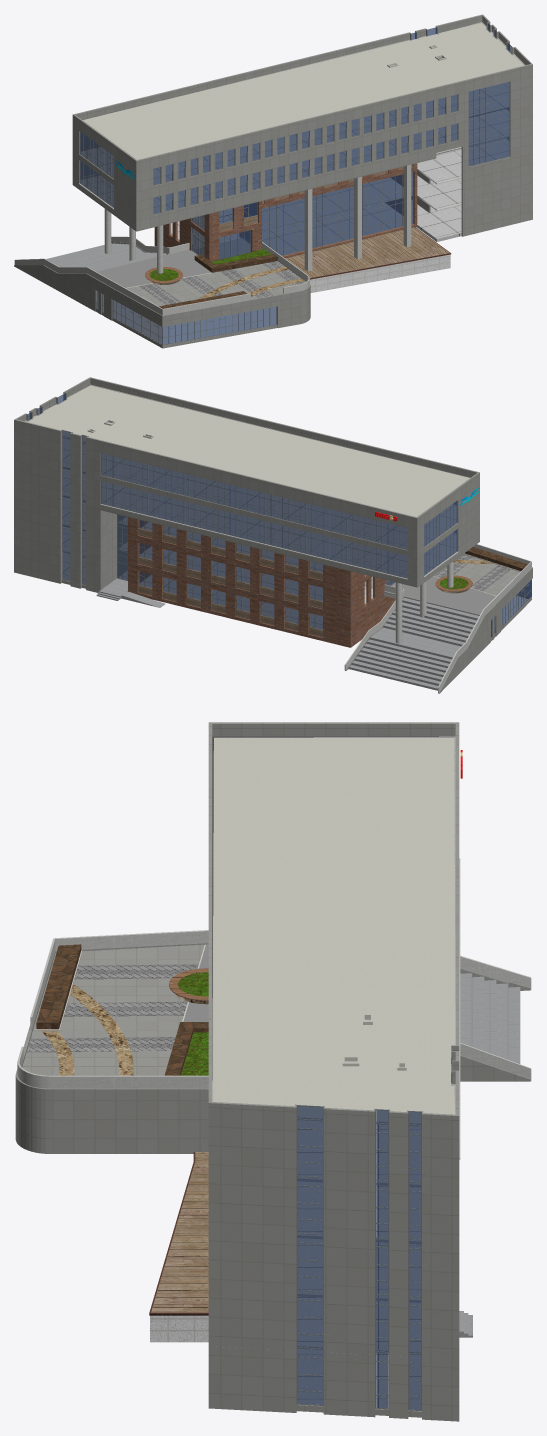
File: zuo.glb
3 views of the same model, one above another, from view 1: azimuth 30°, elevation 25°; view 2: azimuth 150°, elevation 25°; view 3: azimuth 270°, elevation 25° (orthographic). The views are drawn at different scales.
Parts seen in each view (by area): view 1: zuo1, zuoding, zuo5, zuo4, zuo2, zuo3; view 2: zuo1, zuoding, zuo5, zuo4, zuo2, zuo3; view 3: zuoding, zuo1, zuo5, zuo4, zuo3, zuo2.
Boxes of the visible parts, x1,y1,x2,y2 form: zuo1: (14, 164, 532, 348); zuoding: (82, 22, 525, 159); zuo5: (72, 14, 532, 197); zuo4: (72, 101, 532, 226); zuo2: (163, 138, 532, 261); zuo3: (72, 130, 532, 238); zuo1: (14, 541, 532, 693); zuoding: (25, 384, 470, 516); zuo5: (14, 377, 479, 553); zuo4: (14, 456, 479, 582); zuo2: (14, 513, 395, 616); zuo3: (14, 484, 479, 590); zuoding: (212, 736, 455, 1126); zuo1: (15, 930, 531, 1421); zuo5: (208, 722, 462, 1187); zuo4: (208, 858, 460, 1245); zuo3: (208, 1232, 459, 1302); zuo2: (208, 1289, 459, 1359).
Bounding box in the file's own units: 173 × 62.1 × 87.22.
Materials: 24 (19 with a texture image).
